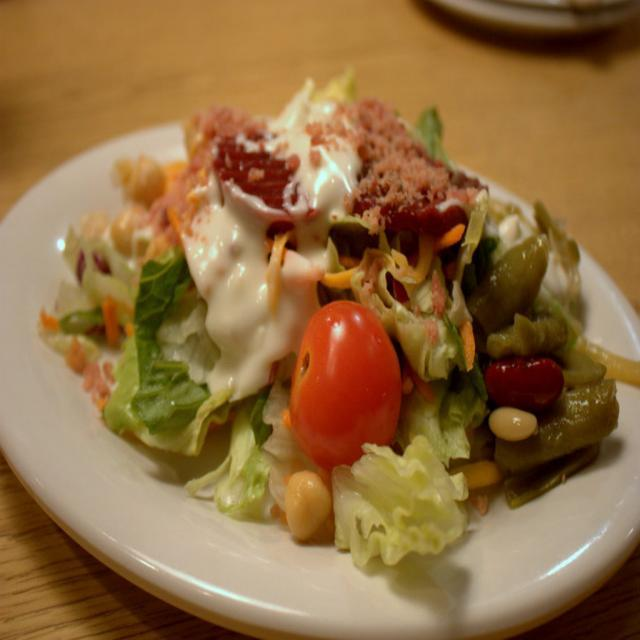Tomato: (289, 304, 403, 464)
